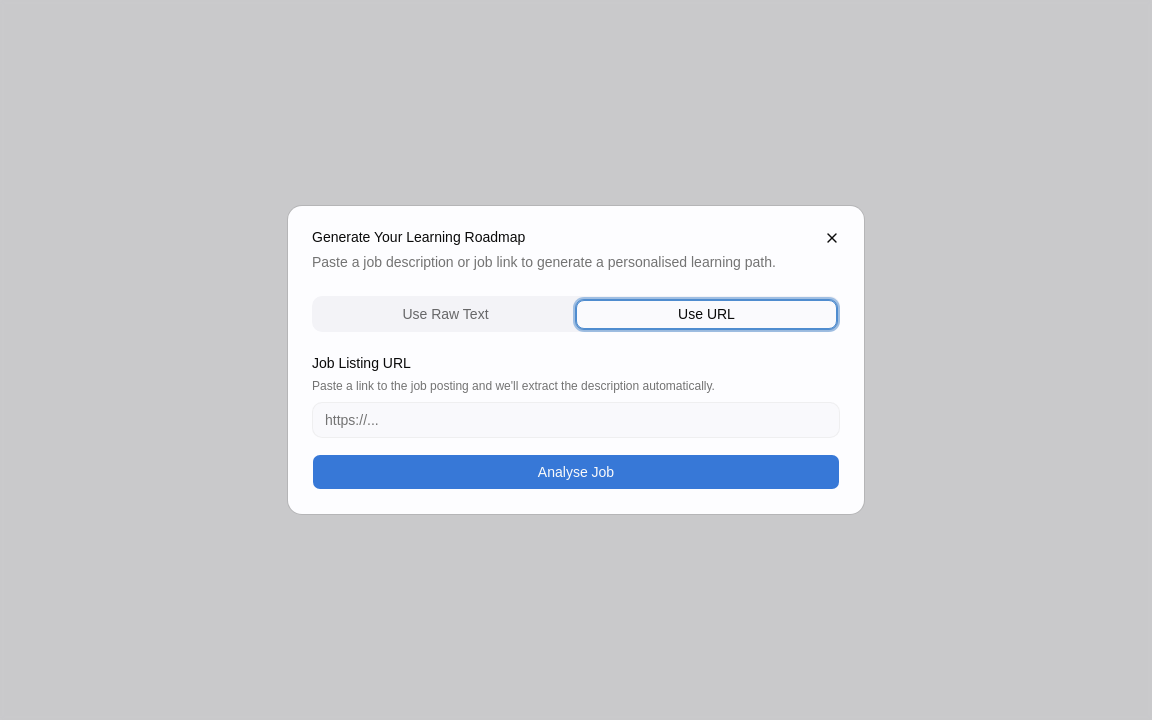
Test: CreateRoadMapModal › shows a URL validation error when submitting the URL tab with an empty URL
This screenshot has width=1152, height=720.
# Submit without filling in the URL field
Click the button "Analyse Job".
click(576, 472)  # box [312,454,840,490]
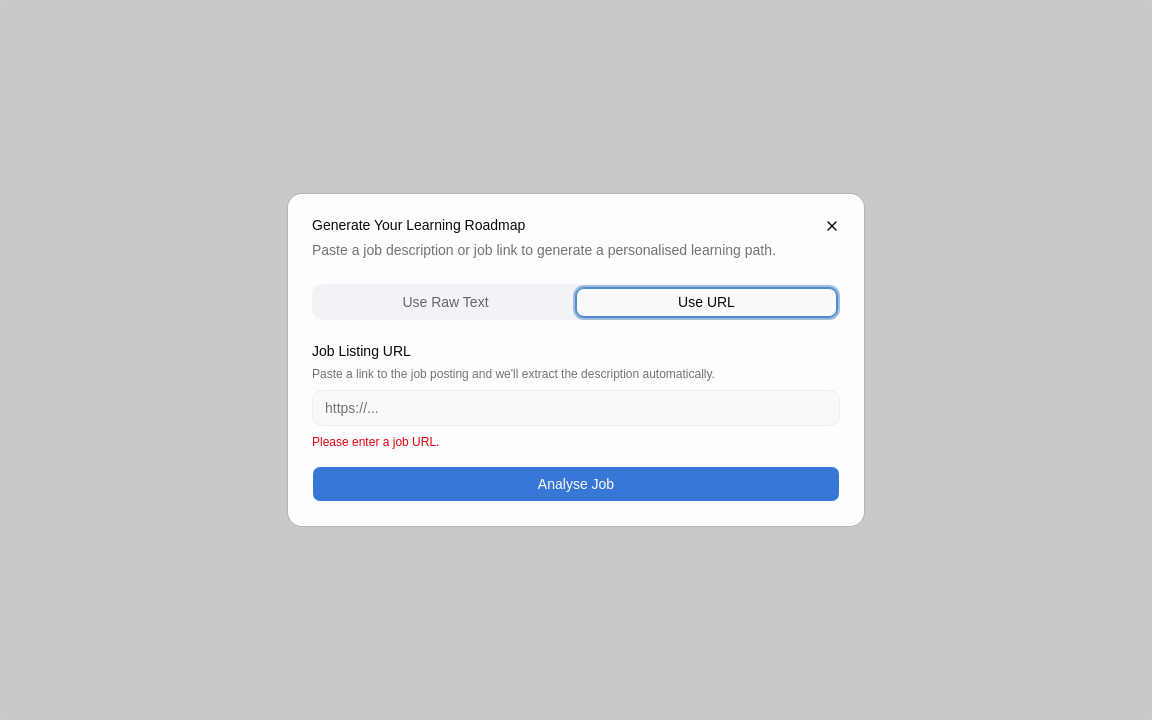
Result: the text "Please enter a job URL." is shown at [312,435,439,449]
